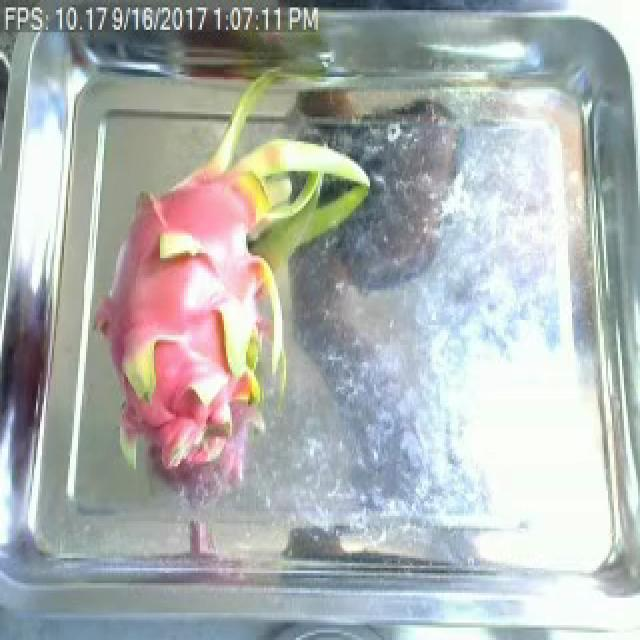fruit: (64, 74, 376, 506)
